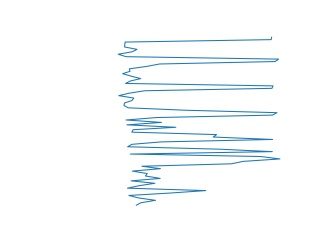crevasseRiverChannelBar: (120, 159, 268, 206)
majorRiverBedLagDeposit: (122, 119, 288, 163)
majorRiverChannelBar: (115, 35, 284, 116)
